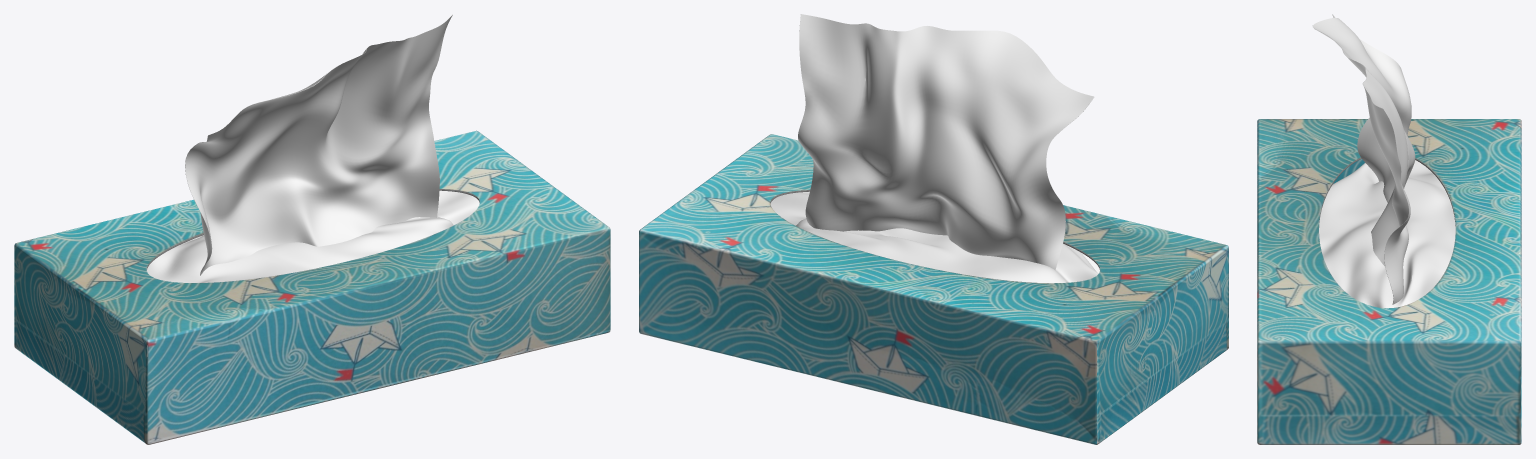
File: tissue.fbx
3 renders of one model, left to right at view 1: azimuth 30°, elevation 25°; view 2: azimuth 150°, elevation 25°; view 3: azimuth 270°, elevation 25°, orthographic.
Visible parts, largest first — view 1: Cube, Plane, Plane.002; view 2: Cube, Plane, Plane.002; view 3: Cube, Plane.002, Plane.
Boxes of the visible parts, box(x1,y1,x2,y2) form: Cube: box(14, 130, 610, 444); Plane: box(185, 14, 452, 275); Plane.002: box(147, 190, 479, 356); Cube: box(639, 134, 1228, 444); Plane: box(798, 14, 1093, 270); Plane.002: box(770, 191, 1099, 283); Cube: box(1257, 119, 1521, 444); Plane.002: box(1319, 160, 1455, 308); Plane: box(1312, 14, 1415, 304).
Size of the model in its own units: 23 by 14.02 by 11.5.
